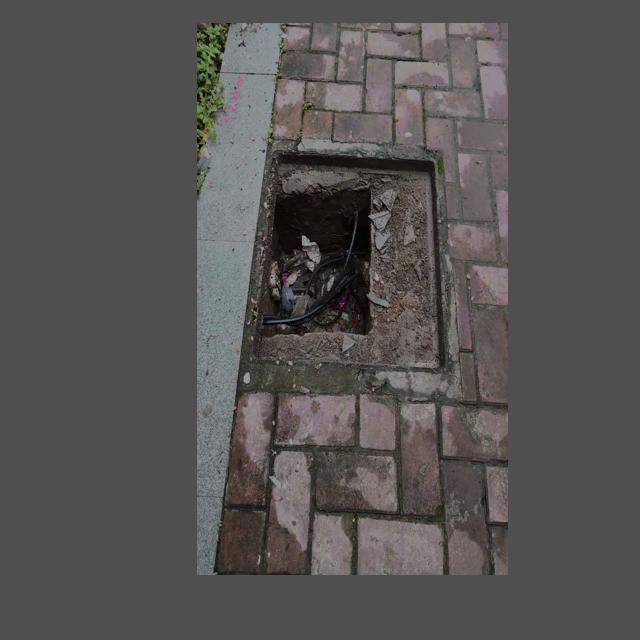broke: (245, 147, 451, 371)
